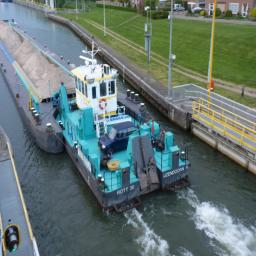tugboat: (54, 54, 194, 218)
